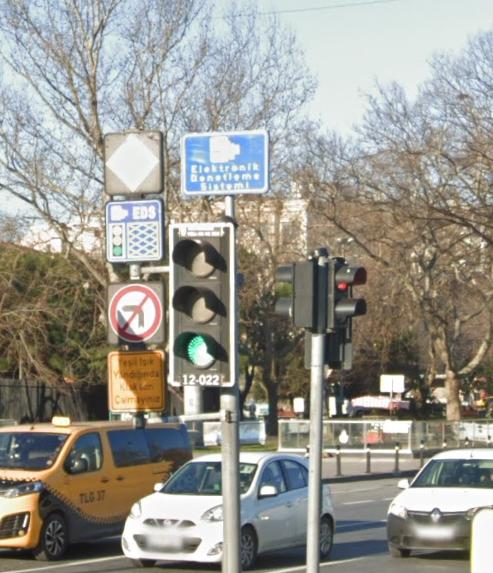greenlight: (173, 230, 230, 366)
leftturnsareforbidden: (110, 285, 163, 337)
